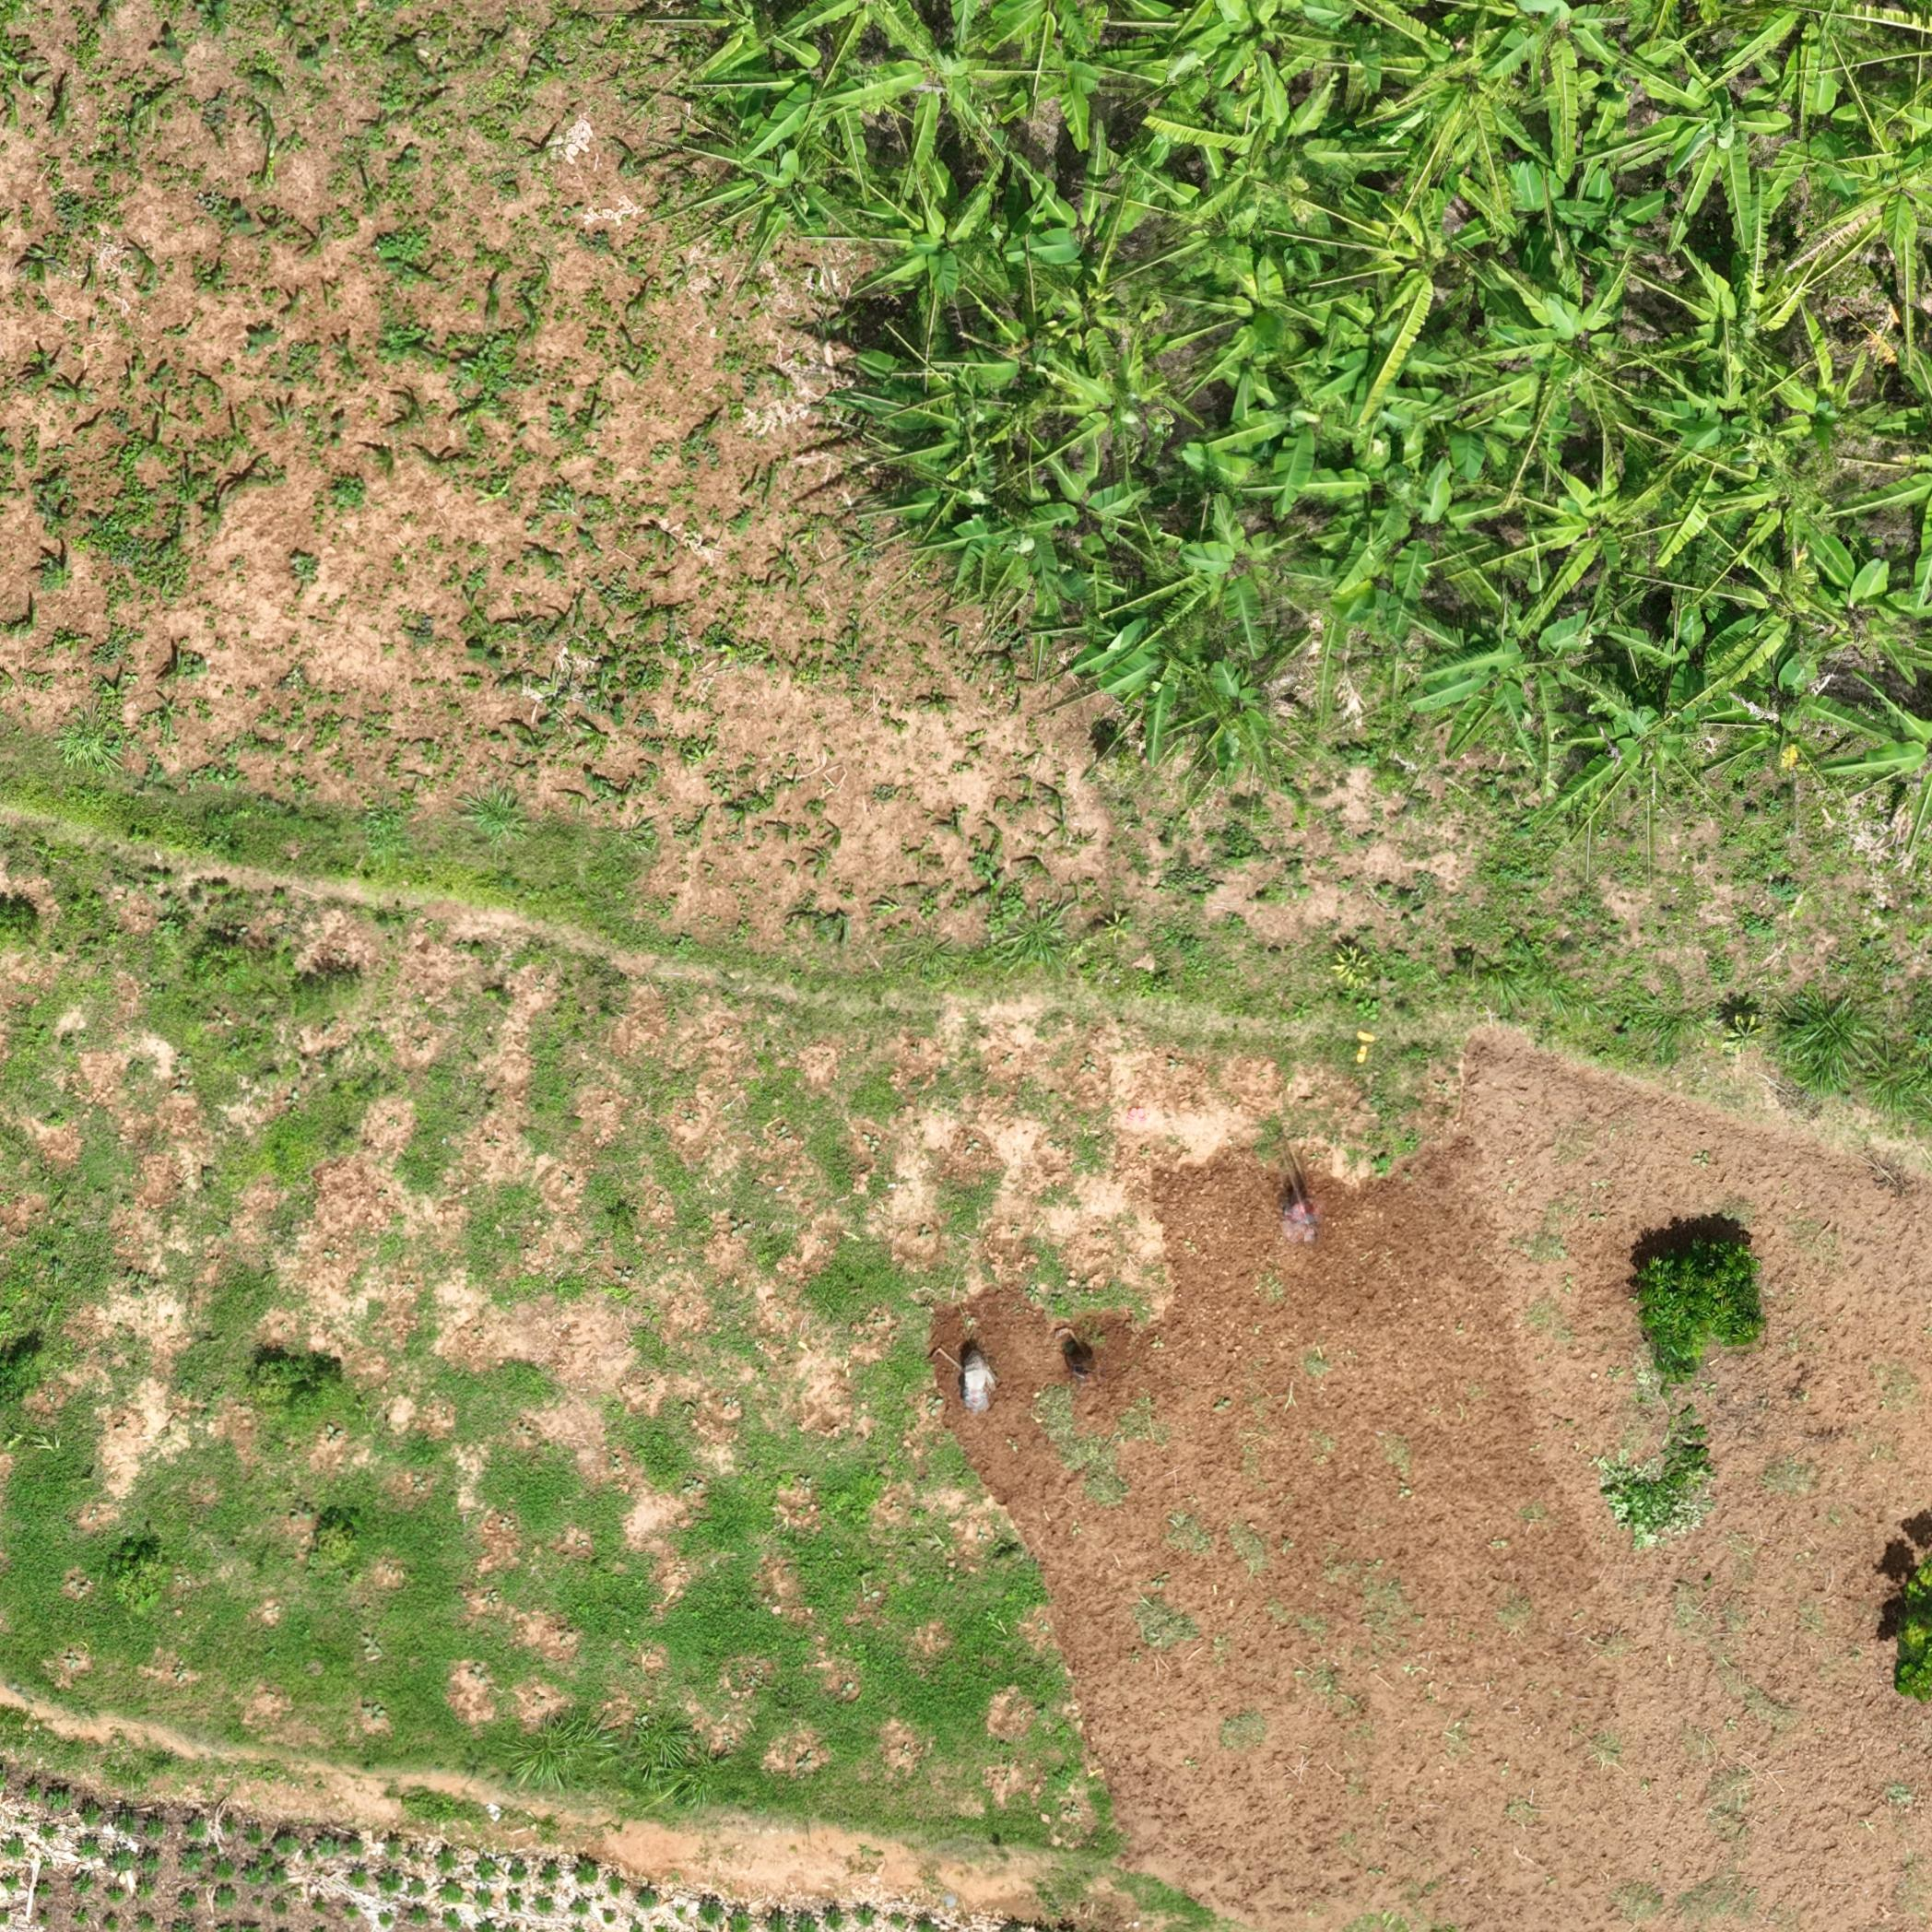Banana: (1550, 662, 1744, 824), (1194, 331, 1412, 471), (1102, 11, 1352, 131), (835, 11, 1024, 168), (1499, 4, 1654, 195), (1414, 580, 1583, 747), (1619, 41, 1778, 202), (890, 403, 1042, 571), (1384, 27, 1546, 175), (1629, 239, 1790, 386), (1491, 260, 1629, 430), (674, 104, 823, 255), (1499, 453, 1651, 594), (847, 166, 996, 304), (1279, 182, 1461, 290), (1173, 501, 1302, 653), (847, 324, 1008, 432), (1787, 16, 1895, 175), (1024, 154, 1150, 285), (1787, 511, 1895, 648), (1046, 333, 1166, 446), (1083, 614, 1177, 755), (1799, 674, 1897, 801), (679, 5, 824, 78)
